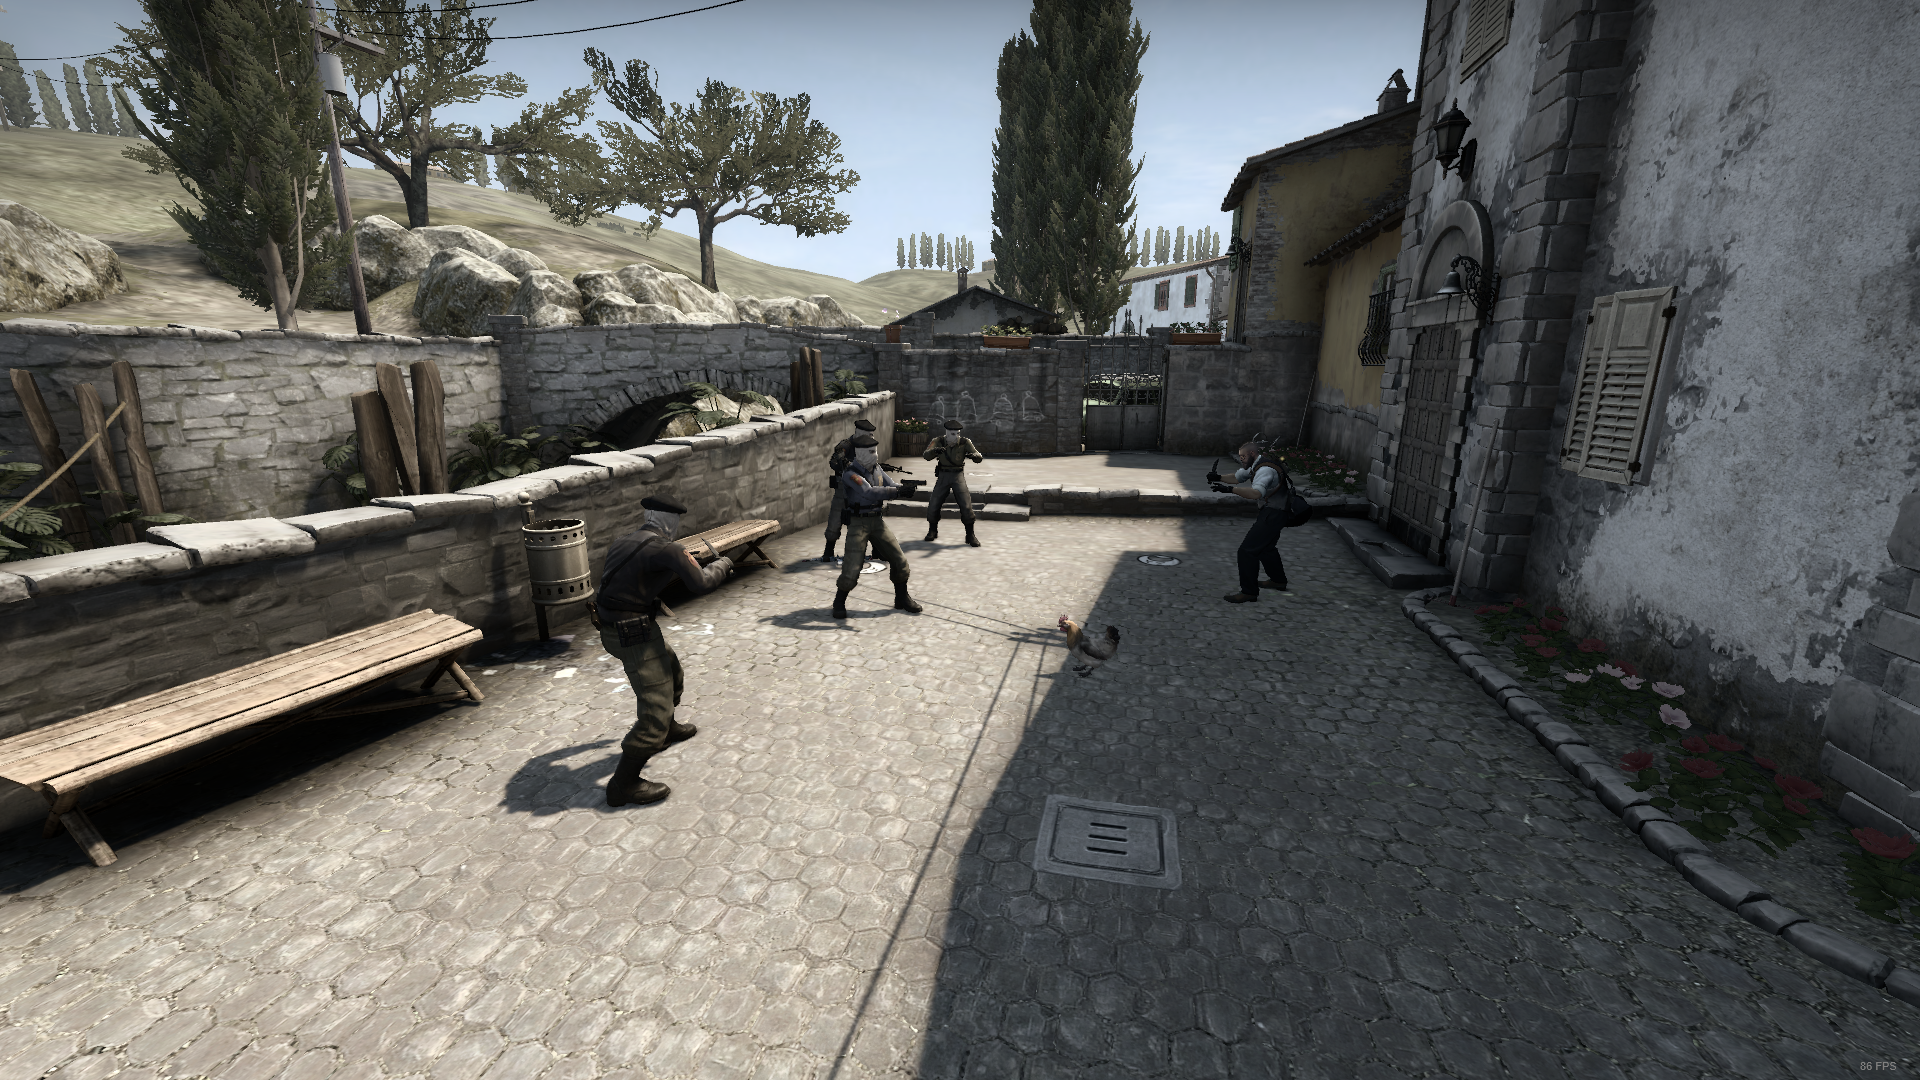t: (580, 491, 709, 814), (829, 434, 926, 621), (822, 419, 891, 562), (922, 421, 985, 549)
